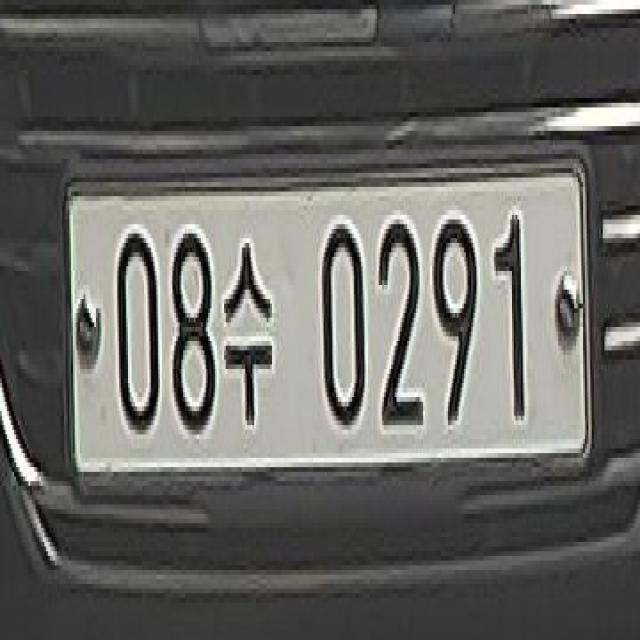0: (110, 208, 163, 453), (314, 214, 369, 443)
1: (494, 201, 546, 449)
2: (374, 212, 426, 434)
8: (169, 216, 220, 454)
9: (432, 196, 484, 440)
license_plate: (57, 143, 601, 520)
su: (221, 230, 280, 442)
